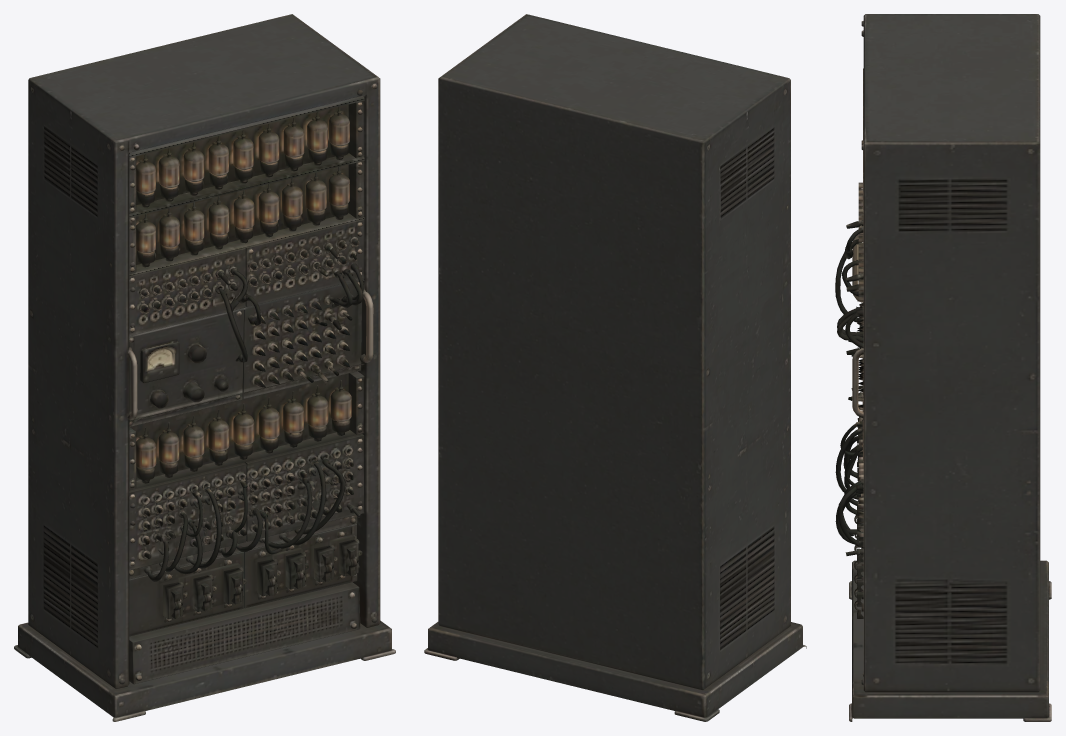
The model's file is eniac.glb.
The picture shows the model from 3 angles, left to right: view 1: azimuth 30°, elevation 25°; view 2: azimuth 150°, elevation 25°; view 3: azimuth 270°, elevation 25°; orthographic projection.
Visible parts, largest first — view 1: tripo_2c786b04_1f81_4b1e_b2e5_61734d515934; view 2: tripo_2c786b04_1f81_4b1e_b2e5_61734d515934; view 3: tripo_2c786b04_1f81_4b1e_b2e5_61734d515934.
Boxes of the visible parts, x1=… form: tripo_2c786b04_1f81_4b1e_b2e5_61734d515934: x1=14, y1=14, x2=395, y2=721; tripo_2c786b04_1f81_4b1e_b2e5_61734d515934: x1=424, y1=14, x2=806, y2=721; tripo_2c786b04_1f81_4b1e_b2e5_61734d515934: x1=835, y1=14, x2=1051, y2=721.
Bounding box in the file's own units: 0.5162 × 0.9995 × 0.3413.
1 material, 1 textured.
